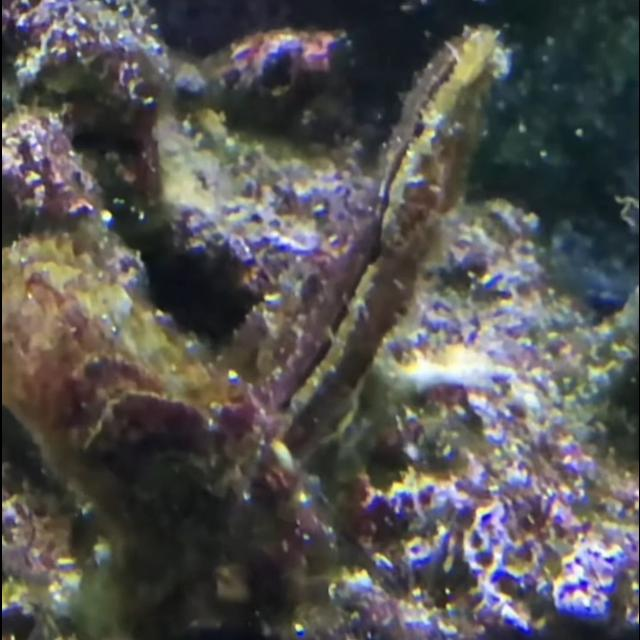Oyster-Closed: (225, 30, 509, 470)
Oyster-Indeterminate: (1, 240, 305, 600)
